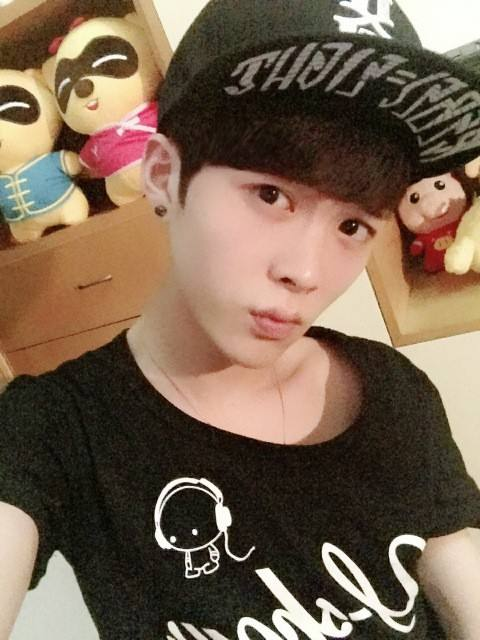person: (75, 13, 444, 640)
